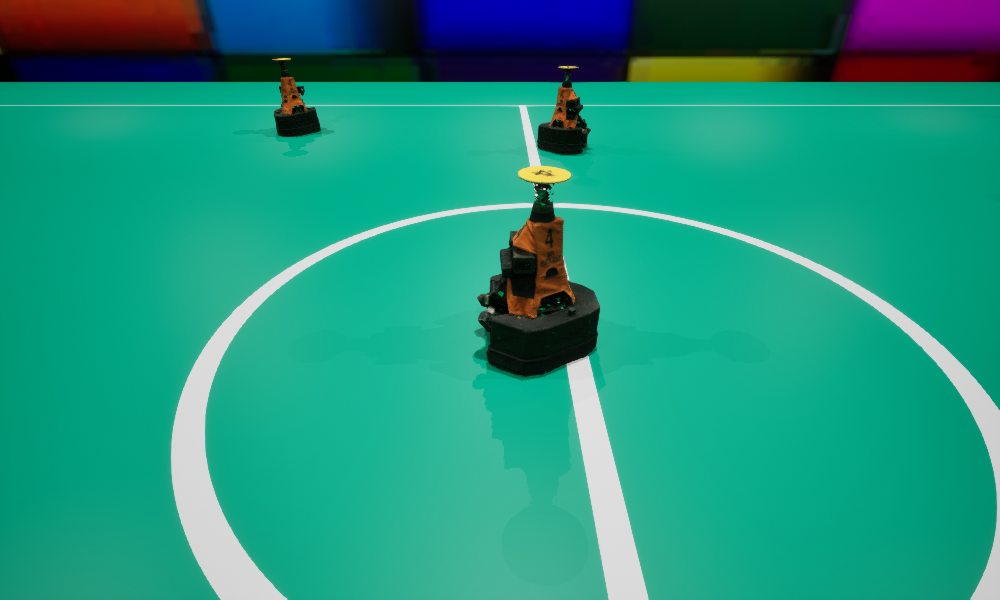0 orange robot TechUnited: (477, 166, 599, 376), (537, 66, 590, 154), (272, 58, 320, 136)
